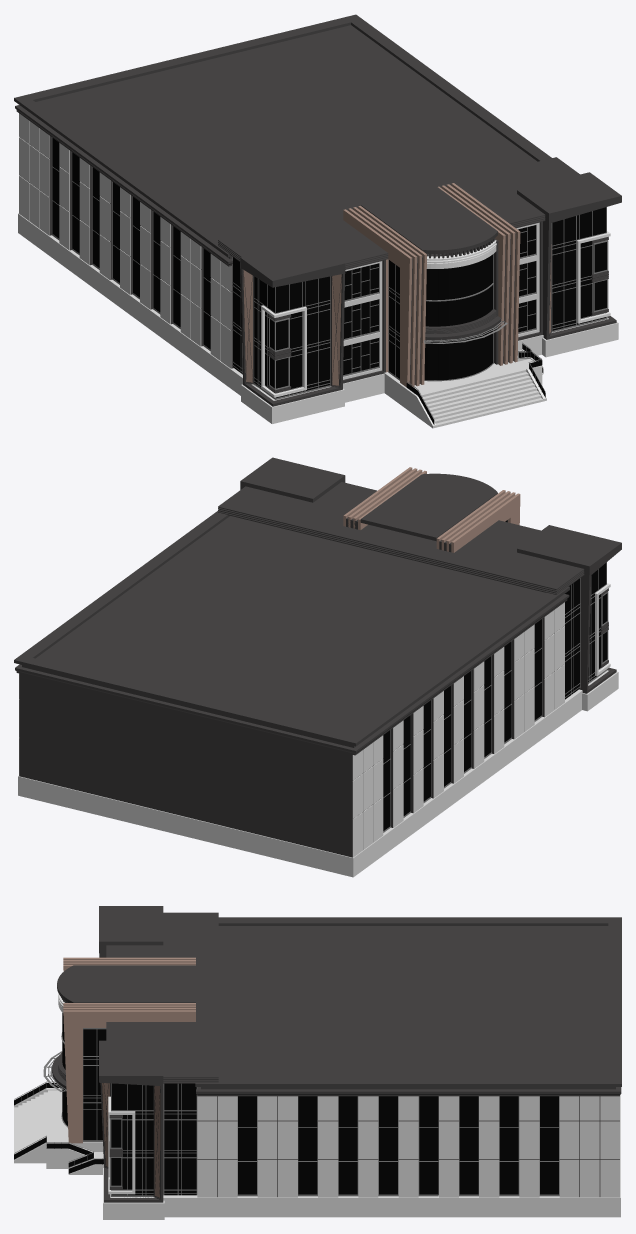
The model's file is OfficeBuilding.fbx.
3 renders of one model, top to bottom at view 1: azimuth 30°, elevation 25°; view 2: azimuth 150°, elevation 25°; view 3: azimuth 270°, elevation 25°, orthographic.
Visible parts, largest first — view 1: OfficeBuilding.016, OfficeBuilding.017, OfficeBuilding.001, OfficeBuilding.014, OfficeBuilding.010, OfficeBuilding.024, OfficeBuilding.007, OfficeBuilding.011, OfficeBuilding.021, OfficeBuilding.018, OfficeBuilding.002, OfficeBuilding.008 (+9 smaller); view 2: OfficeBuilding.016, OfficeBuilding.008, OfficeBuilding.010, OfficeBuilding.014, OfficeBuilding.011, OfficeBuilding.001, OfficeBuilding.017, OfficeBuilding.024, OfficeBuilding.002, OfficeBuilding.007, OfficeBuilding.021; view 3: OfficeBuilding.016, OfficeBuilding.014, OfficeBuilding.017, OfficeBuilding.001, OfficeBuilding.010, OfficeBuilding.011, OfficeBuilding.024, OfficeBuilding.007, OfficeBuilding.021, OfficeBuilding.002, OfficeBuilding.008, OfficeBuilding.012 (+2 smaller).
Part boxes in pixels (x1,y1,x2,y2): OfficeBuilding.016: (36, 25, 537, 238); OfficeBuilding.017: (52, 138, 606, 398); OfficeBuilding.001: (18, 213, 618, 428); OfficeBuilding.014: (19, 113, 231, 368); OfficeBuilding.010: (14, 14, 551, 266); OfficeBuilding.024: (240, 172, 621, 406); OfficeBuilding.007: (343, 183, 520, 387); OfficeBuilding.011: (218, 157, 579, 269); OfficeBuilding.021: (52, 137, 608, 399); OfficeBuilding.018: (424, 254, 492, 380); OfficeBuilding.002: (360, 186, 497, 253); OfficeBuilding.008: (20, 136, 233, 368); OfficeBuilding.016: (36, 516, 545, 735); OfficeBuilding.008: (19, 617, 563, 857); OfficeBuilding.010: (14, 511, 569, 755); OfficeBuilding.014: (19, 602, 564, 857); OfficeBuilding.011: (218, 482, 584, 594); OfficeBuilding.001: (18, 670, 618, 877); OfficeBuilding.017: (383, 520, 607, 830); OfficeBuilding.024: (240, 457, 621, 693); OfficeBuilding.002: (360, 473, 497, 541); OfficeBuilding.007: (343, 467, 520, 552); OfficeBuilding.021: (383, 520, 608, 832); OfficeBuilding.016: (218, 926, 608, 1078); OfficeBuilding.014: (197, 1096, 619, 1197); OfficeBuilding.017: (83, 1029, 558, 1195); OfficeBuilding.001: (14, 1088, 620, 1219); OfficeBuilding.010: (195, 917, 621, 1096); OfficeBuilding.011: (106, 912, 218, 1083); OfficeBuilding.024: (99, 906, 163, 1202); OfficeBuilding.007: (63, 957, 195, 1143); OfficeBuilding.021: (61, 1028, 559, 1196); OfficeBuilding.002: (57, 965, 195, 1002); OfficeBuilding.008: (197, 1096, 619, 1197); OfficeBuilding.012: (102, 1083, 160, 1197).
Bounding box in the file's own units: 2847 × 1184 × 4301.
